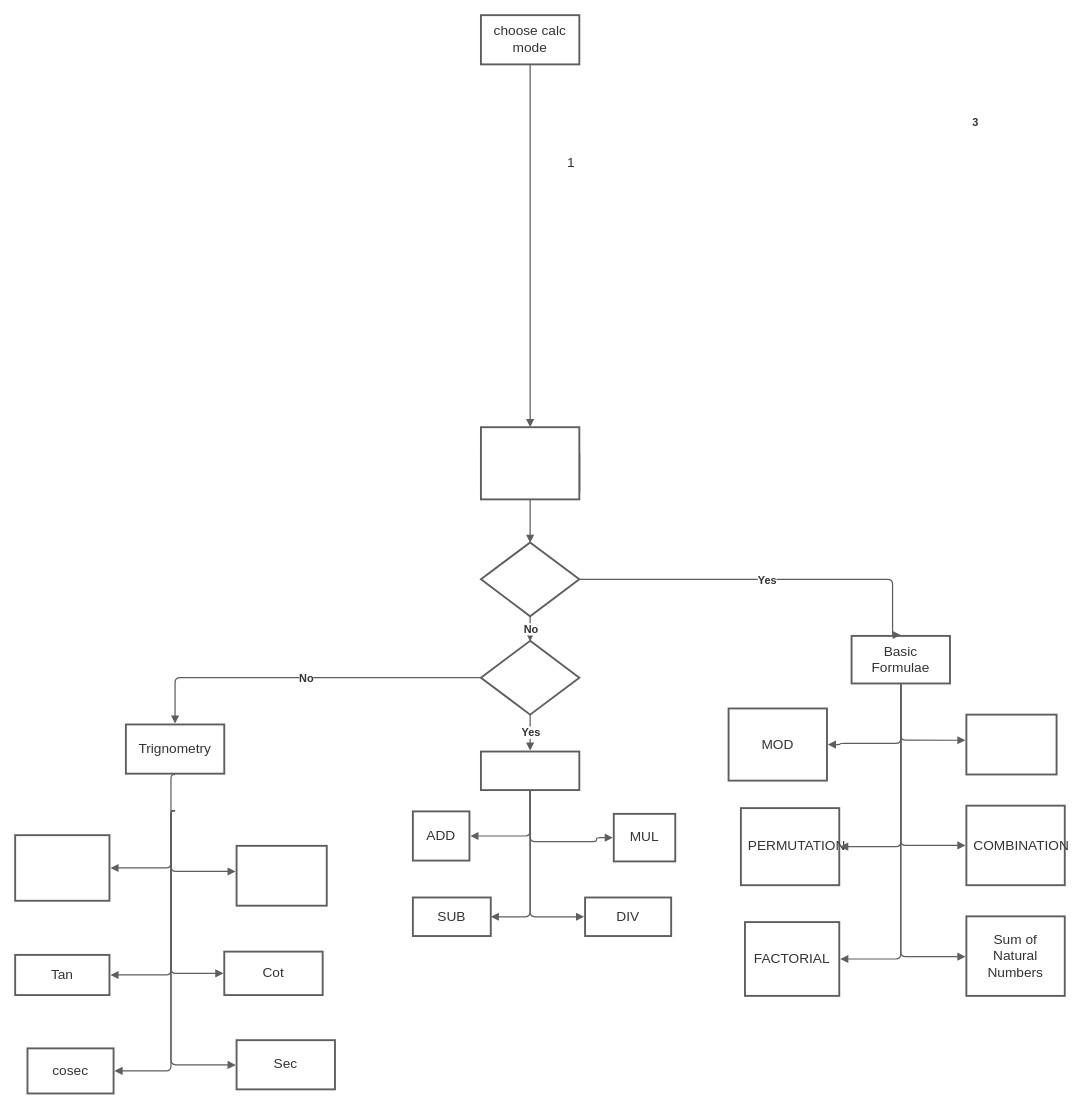
Image size: 1082x1109. Some labels were removed from this diagram. The box of each missing label's shape, as (x1, y1, x2, y2) in pixels:
Arthematic: (480, 750, 580, 791)
Cosine: (235, 845, 327, 906)
if m=1: (480, 541, 580, 617)
if n=1: (480, 640, 580, 715)
Math calc: (480, 426, 580, 500)
POWER: (965, 713, 1057, 775)
Sine: (14, 834, 110, 901)
